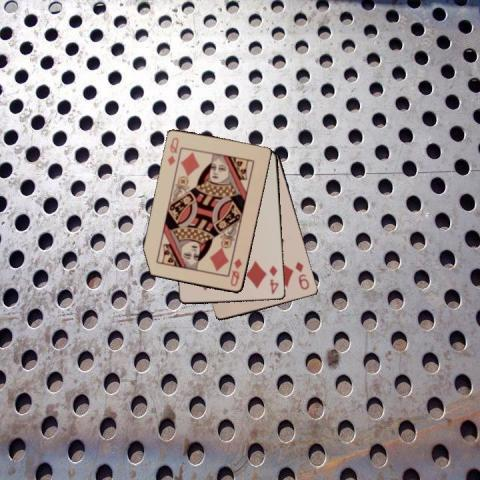4d: (266, 263, 280, 295)
9d: (292, 259, 311, 291)
Qd: (227, 255, 244, 288), (164, 135, 180, 167)
